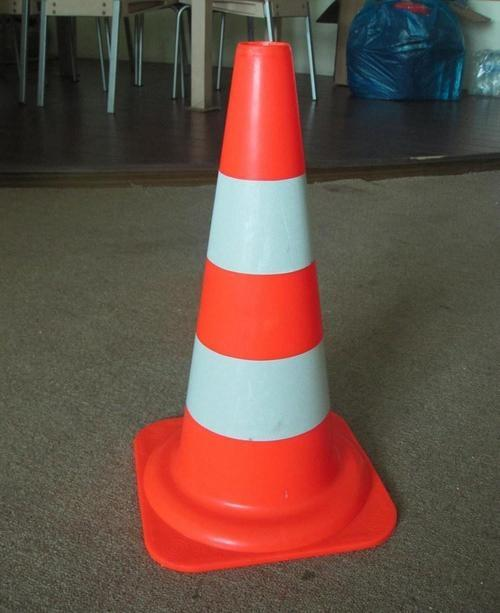cone_barrel: (144, 52, 381, 525)
